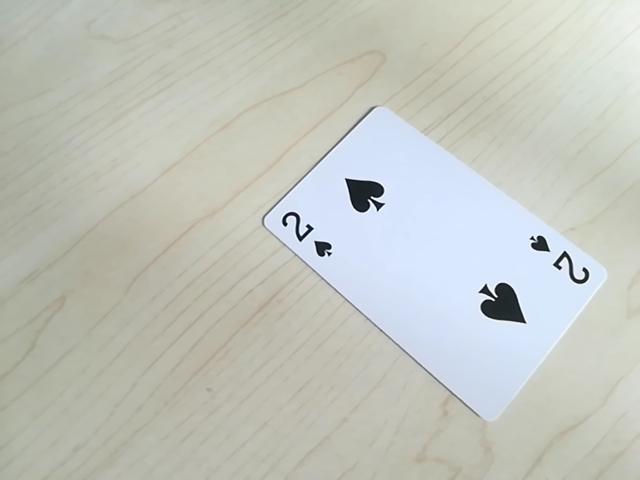ht 2: (524, 228, 593, 292), (272, 207, 337, 262)
